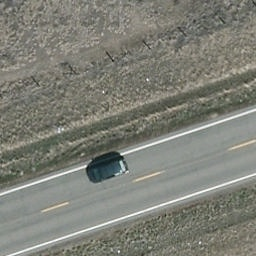car: (87, 155, 129, 184)
